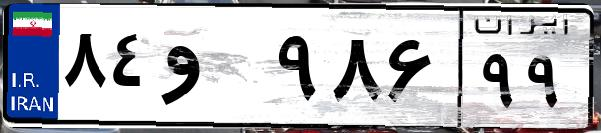4: (110, 28, 158, 98)
6: (385, 28, 445, 110)
8: (330, 28, 385, 110), (57, 26, 110, 100)
9: (270, 28, 330, 110), (475, 38, 525, 113), (525, 38, 570, 115)
و: (158, 20, 270, 120)
